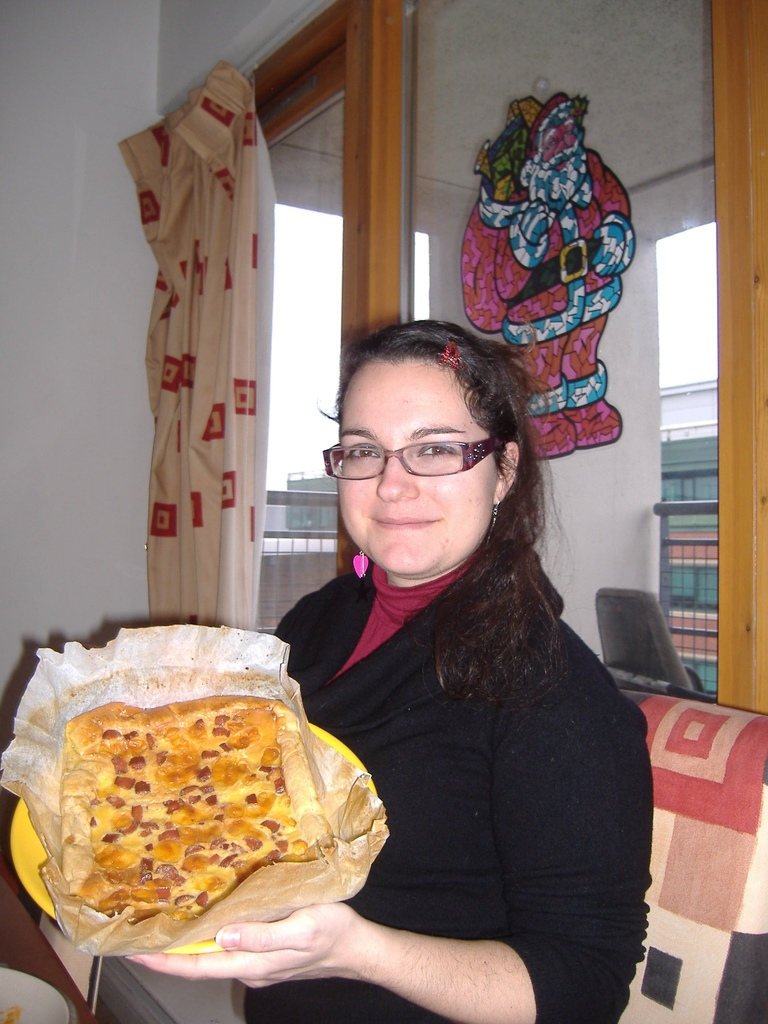Pizza: (26, 691, 321, 929)
